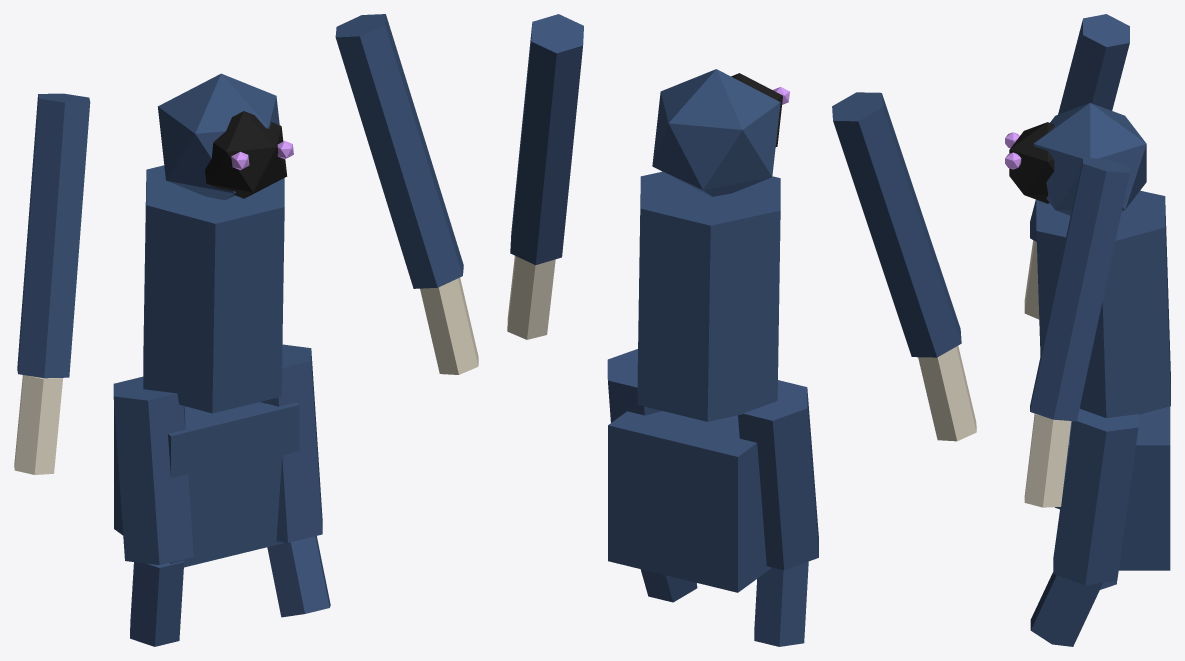
File: npcpose_wraith_walk_05.glb
3 views of the same model, side by side, from view 1: azimuth 30°, elevation 25°; view 2: azimuth 150°, elevation 25°; view 3: azimuth 270°, elevation 25° (orthographic). The views are drawn at different scales.
Parts seen in each view (by area): view 1: npcpose; view 2: npcpose; view 3: npcpose.
Boxes of the visible parts, x1,y1,x2,y2 form: npcpose: (14, 14, 478, 646); npcpose: (507, 14, 976, 646); npcpose: (1005, 14, 1170, 646).
Size of the model in its own units: 0.9388 by 1.08 by 0.3123.
